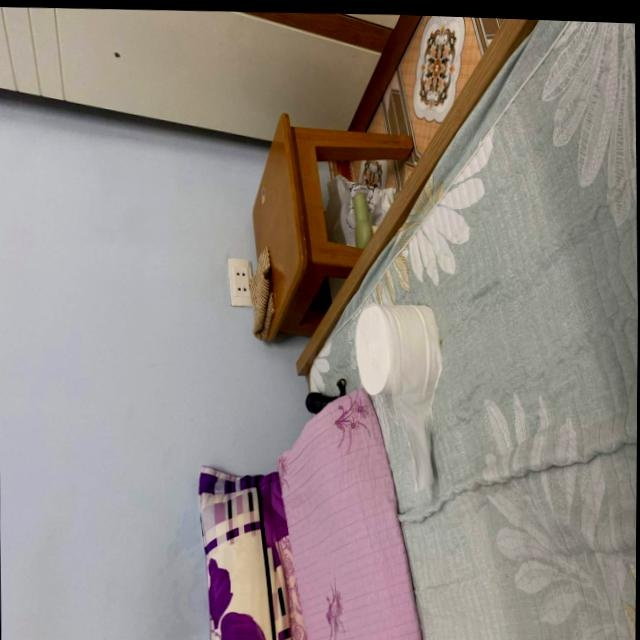outlet: (226, 256, 253, 306)
